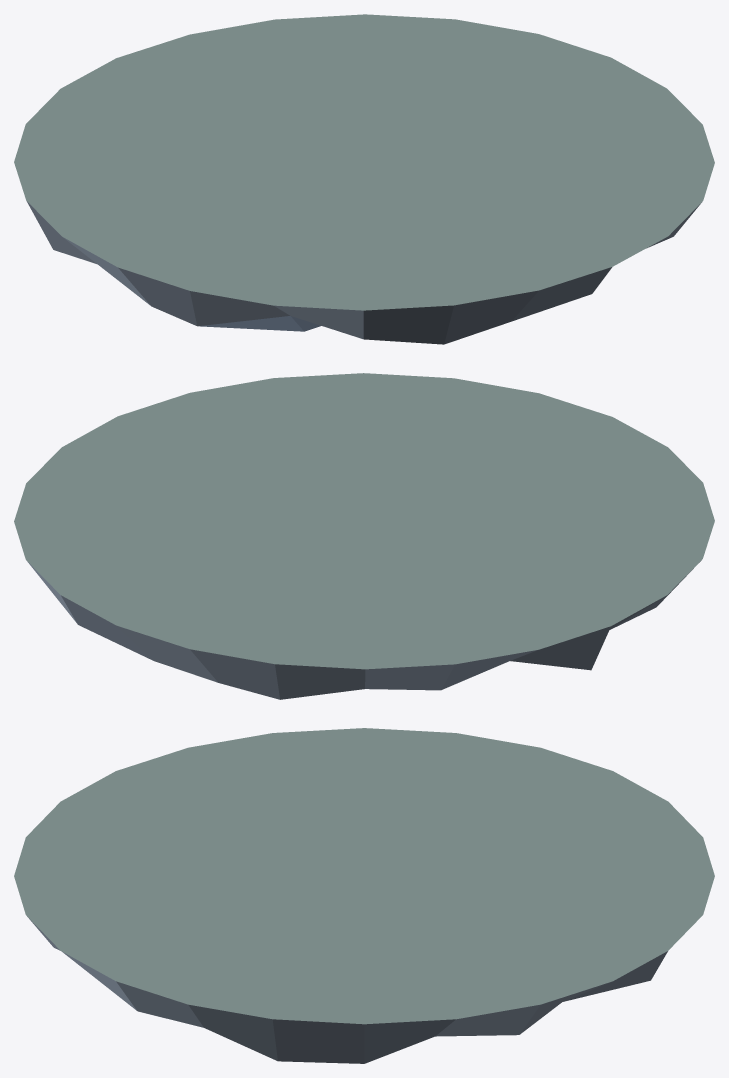
Rendered from Island_Frag_06.glb.
3 views of the same model, one above another, from view 1: azimuth 30°, elevation 25°; view 2: azimuth 150°, elevation 25°; view 3: azimuth 270°, elevation 25° (orthographic).
Visible parts, largest first — view 1: Island_Frag_06; view 2: Island_Frag_06; view 3: Island_Frag_06.
Boxes of the visible parts, x1,y1,x2,y2 form: Island_Frag_06: (14, 14, 714, 344); Island_Frag_06: (14, 373, 714, 699); Island_Frag_06: (14, 728, 714, 1063).
Bounding box in the file's own units: 92 × 13.45 × 92.
